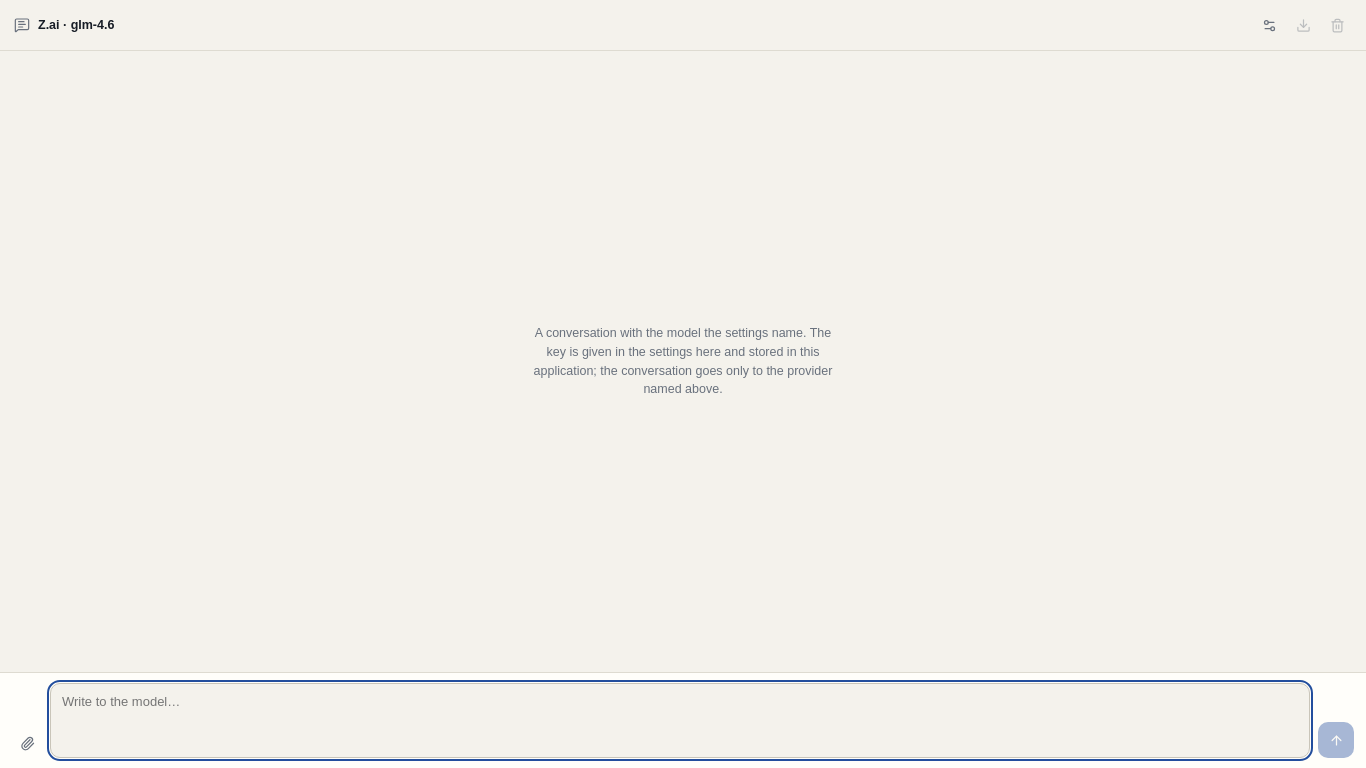
ChatWindow › settles a refusal into a sentence, not a stack or a secret
The width and height of the screenshot is (1366, 768).
In the text box named "Message": (680,721) [50,683,1310,758], type "hello"
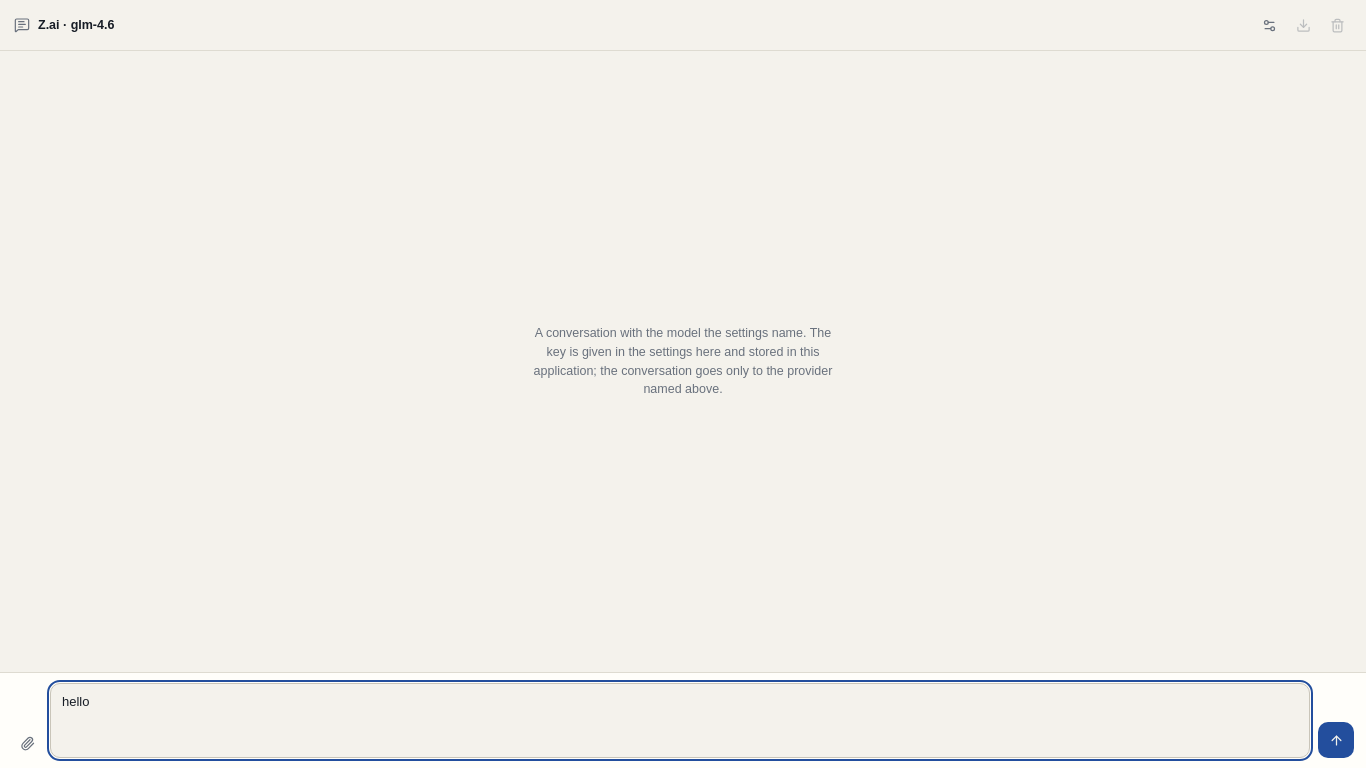
Press Enter
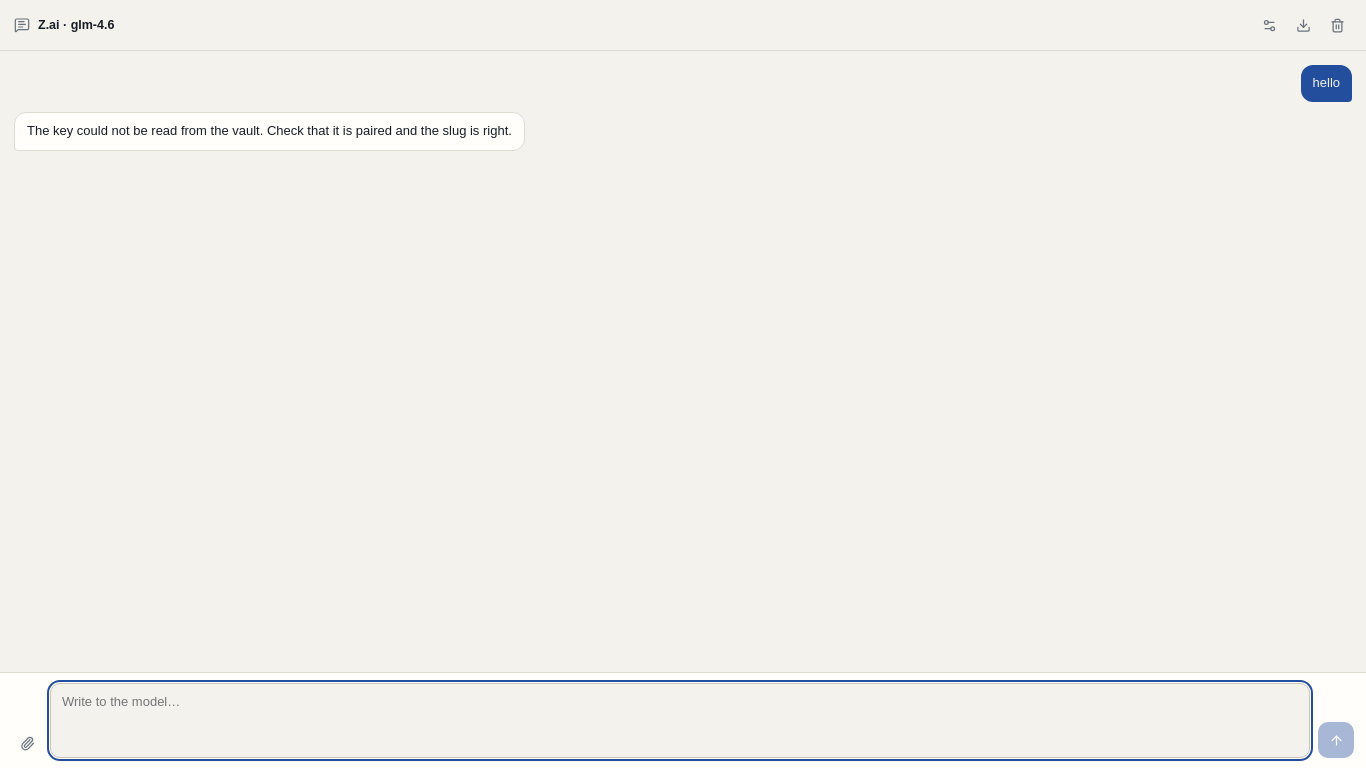
Expected: the text "key could not be read from the vault" is shown, [27,123,512,138]
